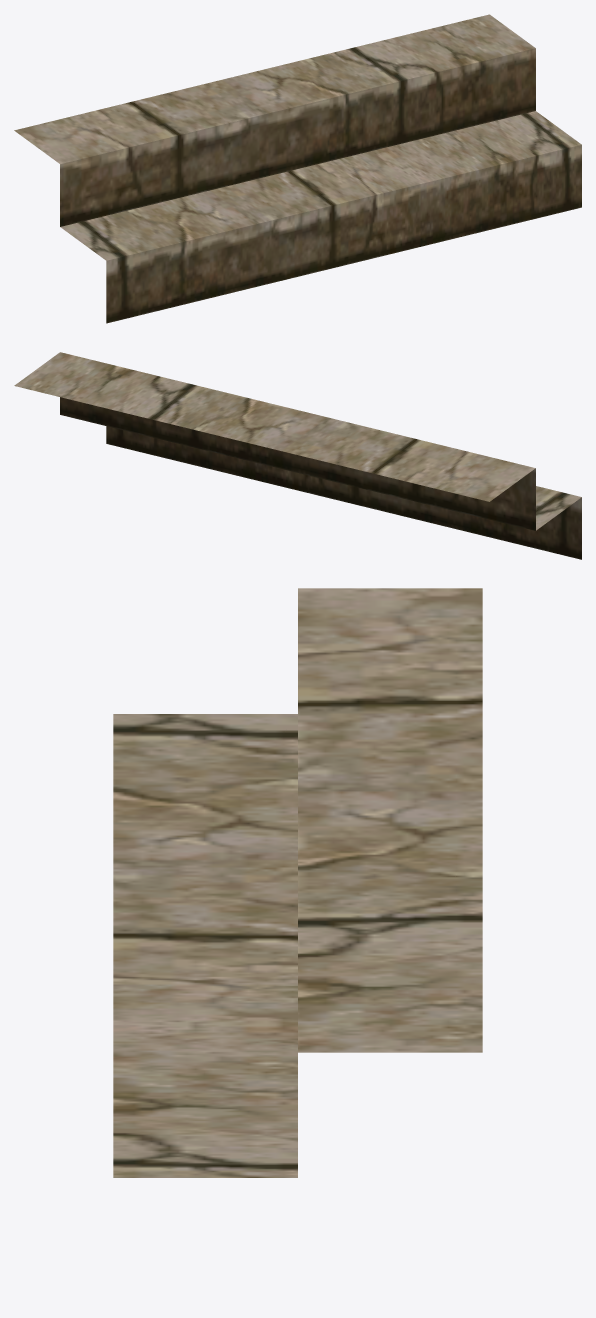
The model's file is OVERHILL_A_01_OBJECT243.fbx.
The picture shows the model from 3 angles, top to bottom: view 1: azimuth 30°, elevation 25°; view 2: azimuth 150°, elevation 25°; view 3: azimuth 270°, elevation 25°; orthographic projection. The views are drawn at different scales.
Visible parts, largest first — view 1: OVERHILL_A_01_OBJECT243; view 2: OVERHILL_A_01_OBJECT243; view 3: OVERHILL_A_01_OBJECT243.
Part boxes in pixels (x1,y1,x2,y2): OVERHILL_A_01_OBJECT243: (14,14,581,323); OVERHILL_A_01_OBJECT243: (14,352,581,559); OVERHILL_A_01_OBJECT243: (113,588,482,1177).
Size of the model in its own units: 23797 by 6000 by 8000.
Materials: 1 (1 with a texture image).
